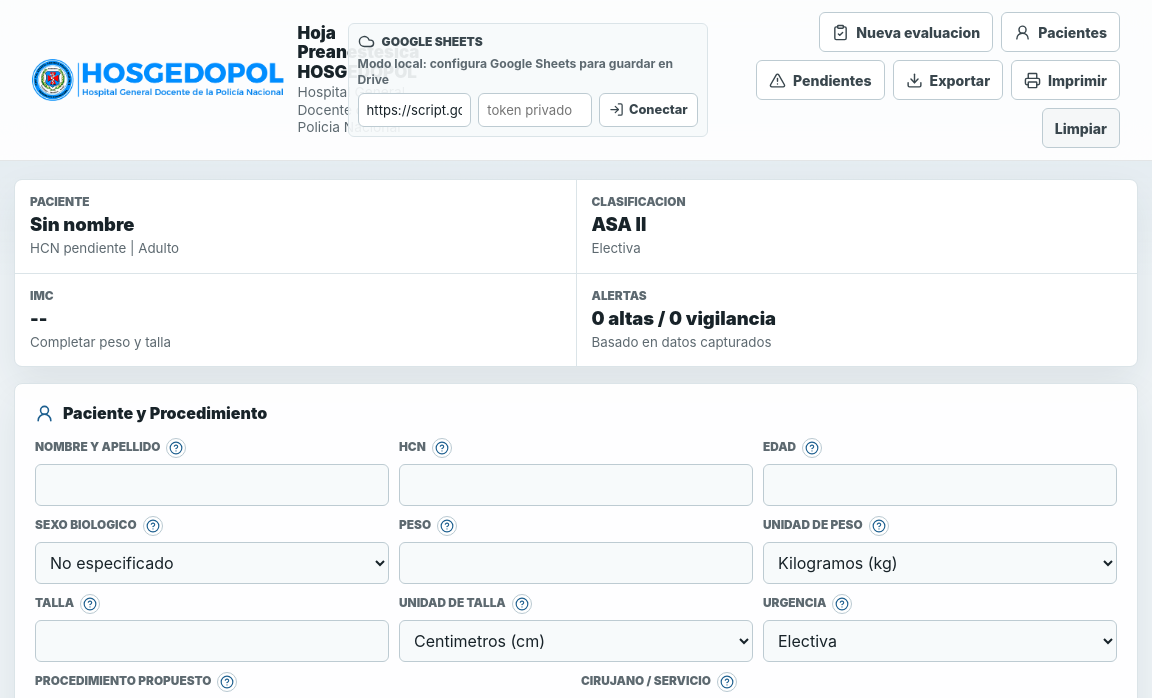
App › converts patient weight from pounds to kilograms for BMI and summaries
Type "154.3" into the field named "Peso". click: [576, 562]
box: x1=399 y1=542 x2=753 y2=584
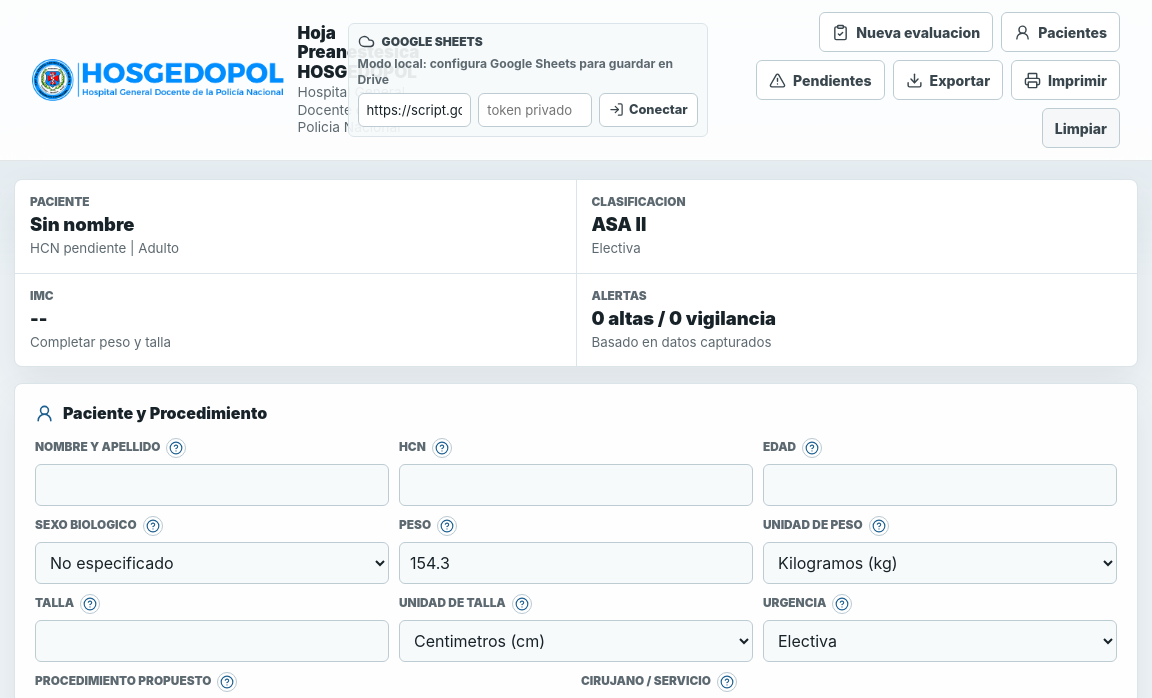
Select "Libras (lb)" in the dropdown named "Unidad de peso". click: [940, 562]
box: x1=763 y1=542 x2=1117 y2=584
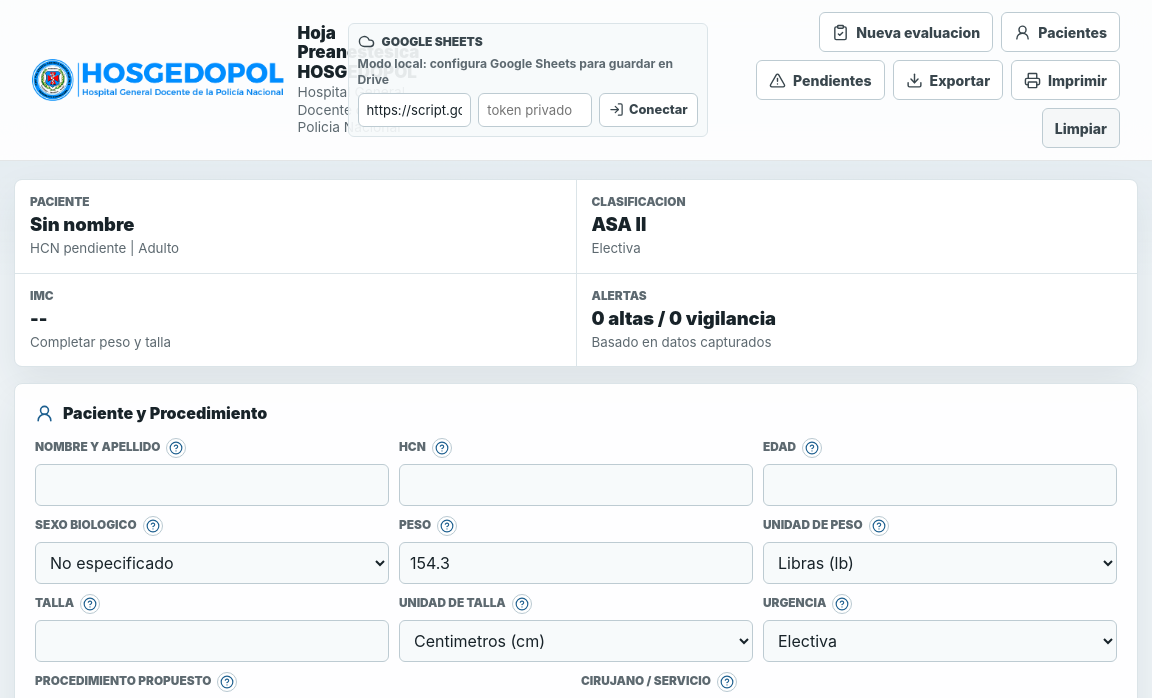
Type "170" into the field named "Talla". click: [212, 640]
box: x1=35 y1=620 x2=389 y2=662
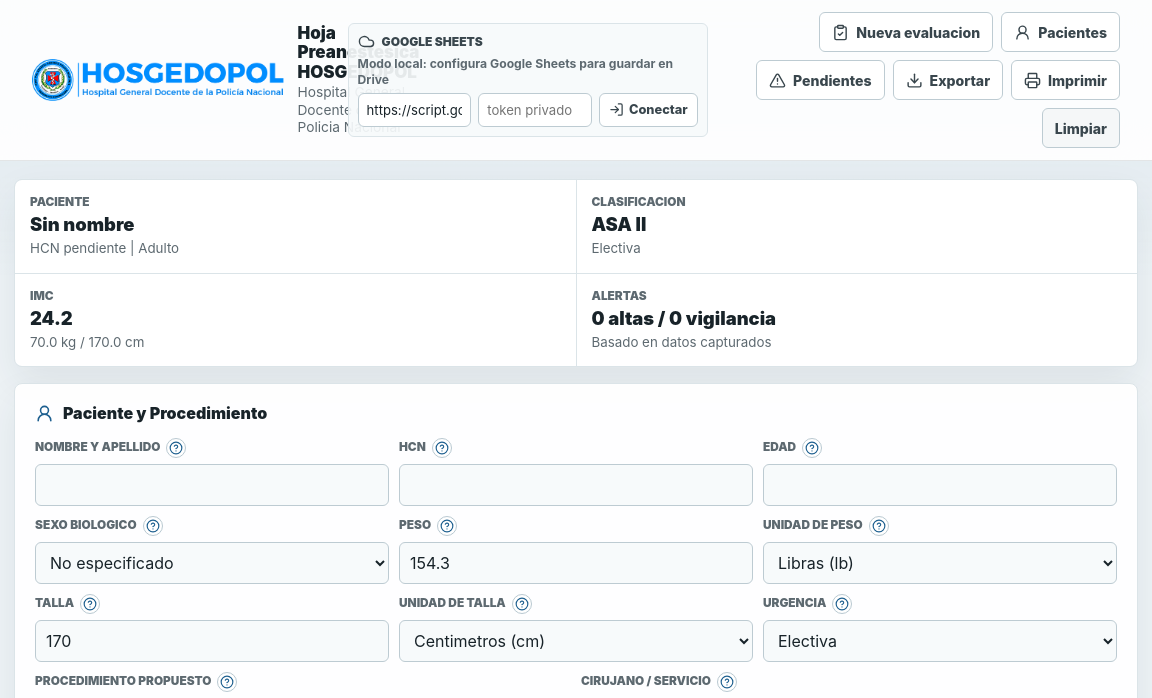
Expected: the text "70.0 kg / 170.0 cm" is shown, x1=30 y1=334 x2=144 y2=350
